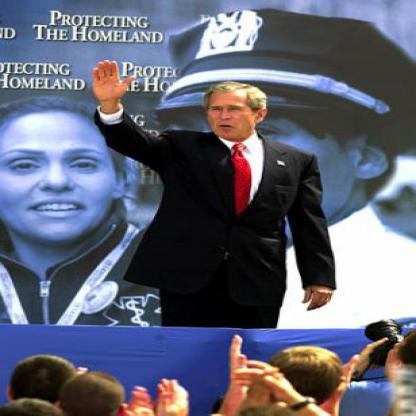face: (1, 100, 117, 244), (206, 86, 258, 140)
